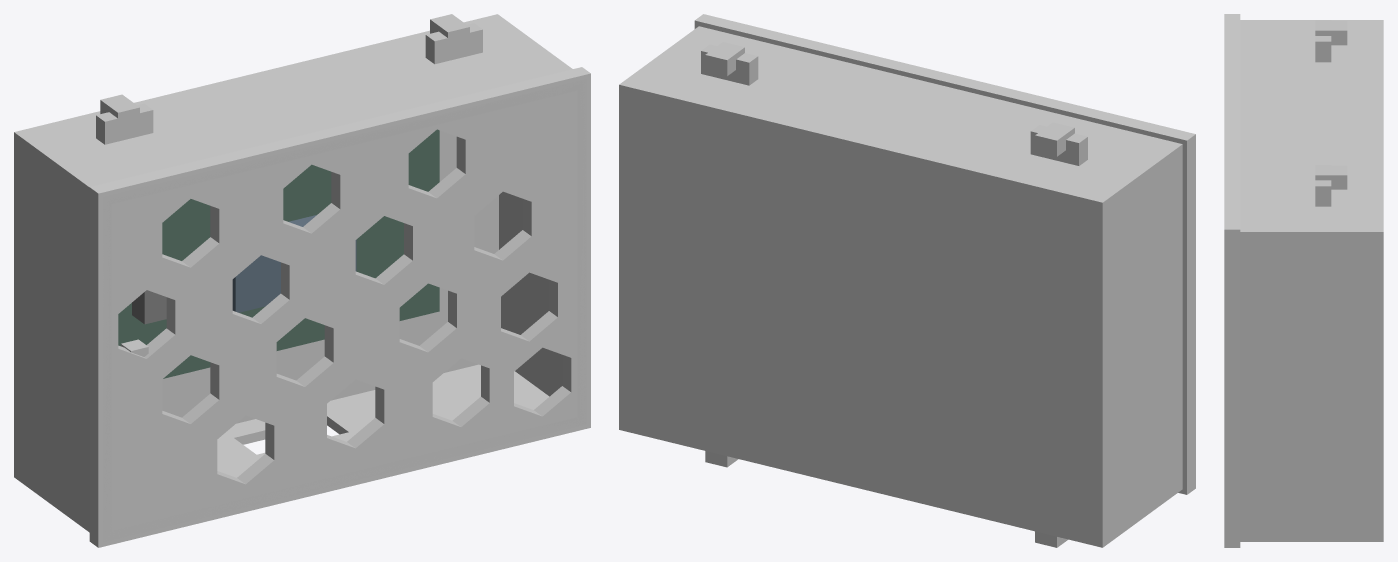
Rendered from timbre-3d.glb.
3 views of the same model, side by side, from view 1: azimuth 30°, elevation 25°; view 2: azimuth 150°, elevation 25°; view 3: azimuth 270°, elevation 25° (orthographic). The views are drawn at different scales.
Parts seen in each view (by area): view 1: lid, body, pcb, esp, latch_-75_81.0, latch_75_81.0, terminal; view 2: body, lid, latch_-75_81.0, latch_75_81.0; view 3: body, lid, latch_-75_81.0, latch_75_81.0.
Part boxes in pixels (x1=…): lid: x1=89, y1=67, x2=590, y2=547; body: x1=14, y1=14, x2=586, y2=541; pcb: x1=118, y1=129, x2=439, y2=378; esp: x1=232, y1=215, x2=356, y2=312; latch_-75_81.0: x1=96, y1=94, x2=153, y2=144; latch_75_81.0: x1=425, y1=14, x2=482, y2=64; terminal: x1=132, y1=290, x2=166, y2=324; body: x1=619, y1=26, x2=1182, y2=547; lid: x1=694, y1=14, x2=1195, y2=494; latch_-75_81.0: x1=1030, y1=122, x2=1087, y2=165; latch_75_81.0: x1=701, y1=42, x2=758, y2=85; body: x1=1240, y1=20, x2=1383, y2=541; lid: x1=1224, y1=14, x2=1240, y2=547; latch_-75_81.0: x1=1315, y1=20, x2=1347, y2=62; latch_75_81.0: x1=1315, y1=165, x2=1347, y2=206.
Size of the model in its own units: 224 by 177 by 70.
